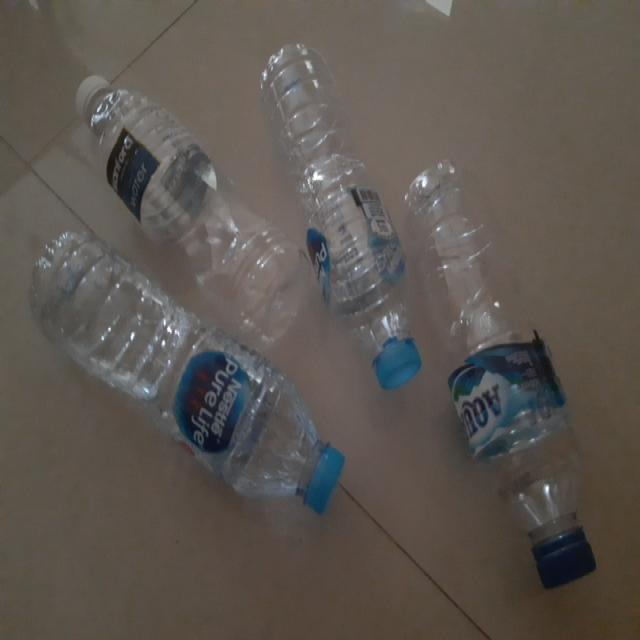PET Bottle: (11, 203, 358, 525), (387, 132, 623, 599), (229, 28, 442, 403), (52, 58, 310, 353)
